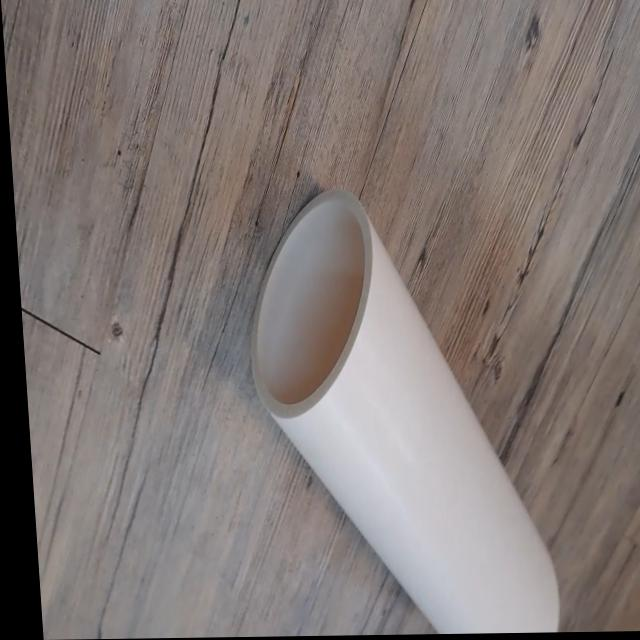CORAL: (218, 140, 574, 637)
